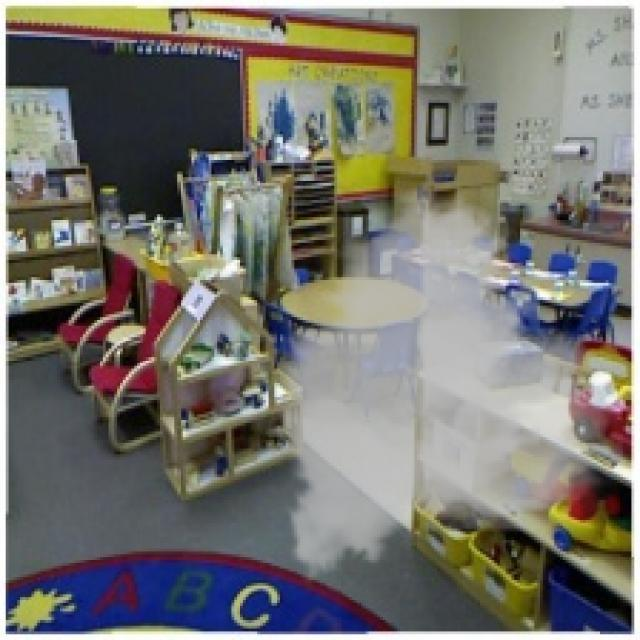Smoke: (266, 172, 623, 594)
